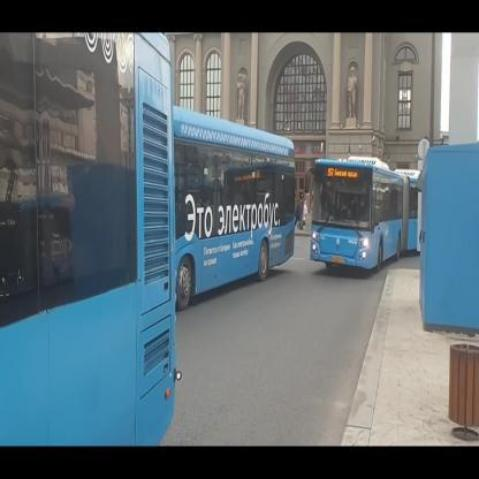bus: (175, 105, 293, 308), (312, 158, 420, 276)
